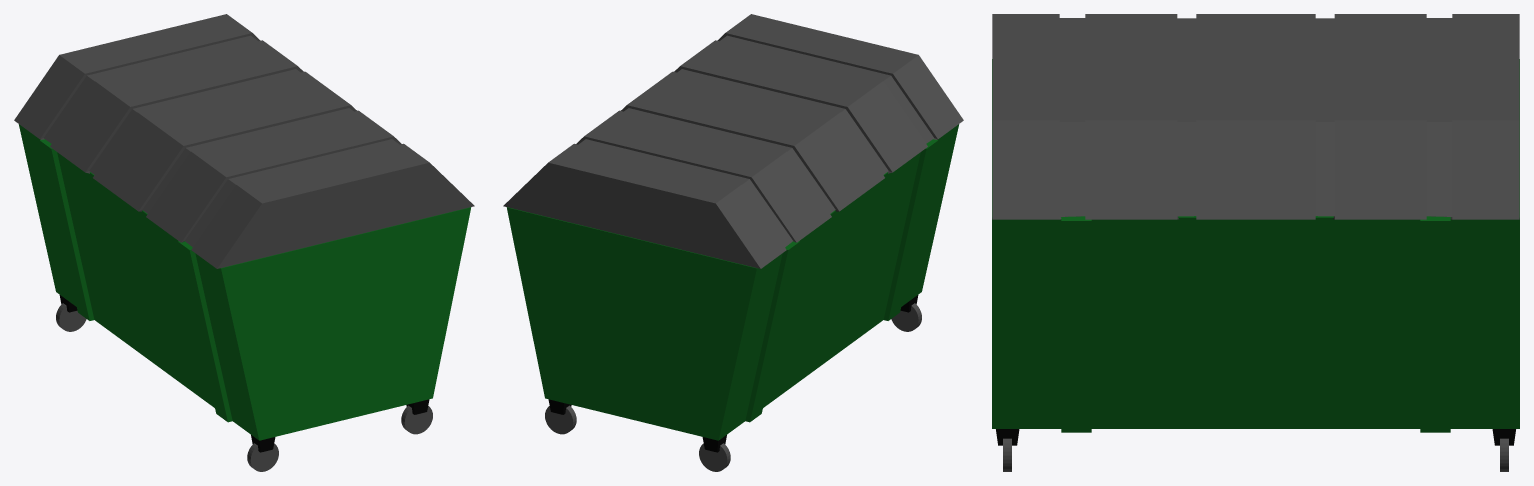
Rendered from ClosedBigbin.fbx.
3 views of the same model, side by side, from view 1: azimuth 30°, elevation 25°; view 2: azimuth 150°, elevation 25°; view 3: azimuth 270°, elevation 25° (orthographic). The views are drawn at different scales.
Parts seen in each view (by area): view 1: LargeBingClosed; view 2: LargeBingClosed; view 3: LargeBingClosed.
Boxes of the visible parts, <box> form: LargeBingClosed: <box>14,14,474,471</box>; LargeBingClosed: <box>503,14,963,471</box>; LargeBingClosed: <box>992,14,1519,471</box>.
Size of the model in its own units: 3 by 3 by 4.06.
